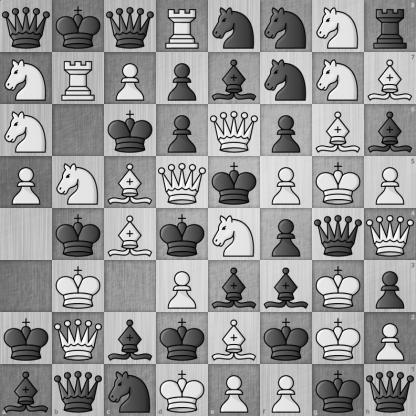B: (364, 52, 416, 104), (105, 157, 156, 208), (105, 209, 156, 260), (209, 313, 260, 364), (313, 105, 364, 156)
K: (156, 364, 209, 416), (53, 261, 104, 312), (313, 157, 364, 208), (313, 261, 364, 312), (313, 313, 364, 364)
N: (1, 53, 52, 104), (1, 105, 52, 156), (53, 157, 104, 208), (209, 209, 260, 260), (313, 1, 364, 52), (313, 53, 364, 104)
P: (364, 156, 416, 209), (260, 364, 312, 416), (364, 312, 416, 364), (209, 364, 260, 416), (1, 157, 52, 208), (105, 53, 156, 104), (157, 261, 208, 312), (261, 157, 312, 208)
Q: (364, 209, 416, 260), (53, 313, 104, 364), (157, 157, 208, 208), (209, 105, 260, 156)
R: (53, 53, 104, 104), (157, 1, 208, 52)
b: (0, 364, 52, 416), (364, 104, 416, 156), (105, 313, 156, 364), (209, 53, 260, 104), (209, 261, 260, 312), (261, 261, 312, 312)
board: (0, 0, 415, 415)
k: (312, 364, 364, 416), (1, 313, 52, 364), (53, 1, 104, 52), (53, 209, 104, 260), (105, 105, 156, 156), (157, 209, 208, 260), (157, 313, 208, 364), (209, 157, 260, 208), (261, 313, 312, 364)
n: (104, 364, 156, 416), (209, 1, 260, 52), (261, 1, 312, 52), (261, 53, 312, 104)
p: (364, 260, 416, 312), (157, 53, 208, 104), (157, 105, 208, 156), (261, 105, 312, 156), (261, 209, 312, 260)
q: (52, 364, 104, 416), (364, 364, 416, 416), (1, 1, 52, 52), (105, 1, 156, 52), (313, 209, 364, 260)
r: (364, 0, 416, 52)
